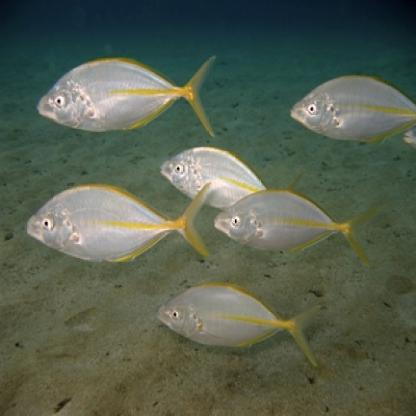Carangidae -Jacks-: (25, 176, 215, 274), (150, 274, 324, 381), (32, 46, 219, 143), (213, 183, 394, 266), (284, 71, 411, 150)
